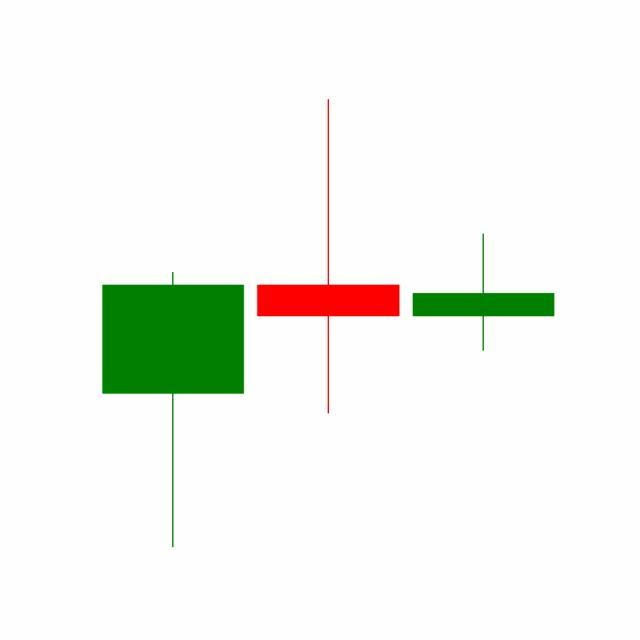Spinning Top: (250, 96, 407, 418)
